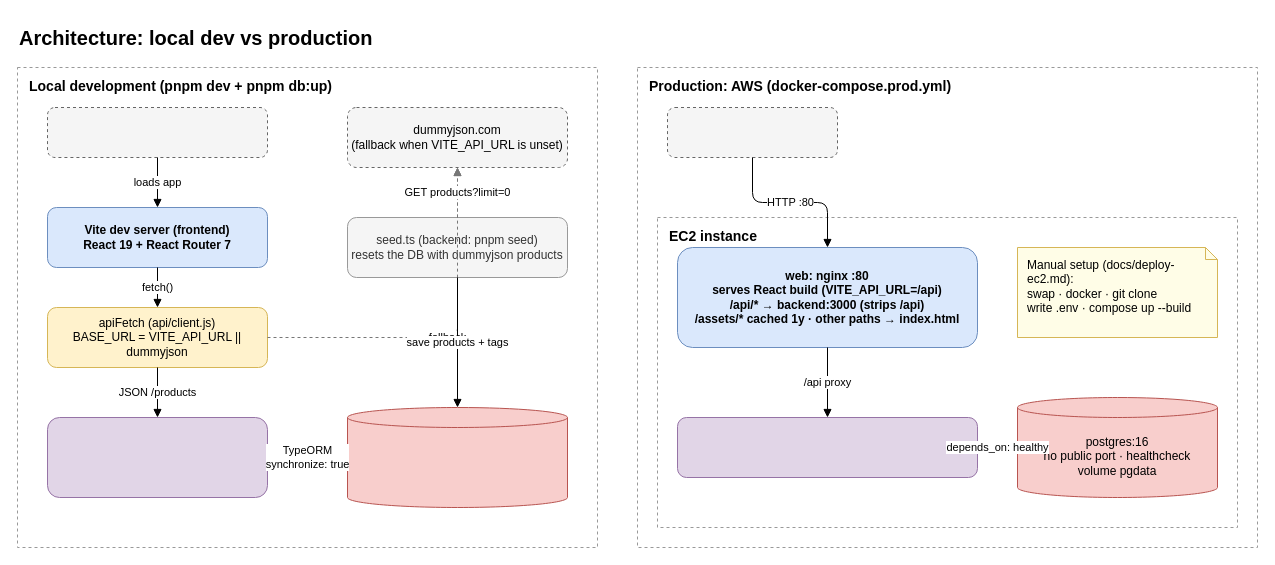
This 1275x565 diagram has some shape labels left out. The shapes that lost their labels are listed below. From the top down, each one's centre as x and y in pixels, then its label:
pixel 157 132: Browser localhost:5173
pixel 752 132: Internet user
pixel 157 457: NestJS backend :3000 CORS (FRONTEND_URL) · ValidationPipe Swagger UI at /docs
pixel 457 457: Postgres 16 container 127.0.0.1:5432 docker-compose.yml · volume pgdata
pixel 827 447: backend: NestJS :3000 (internal network only)
